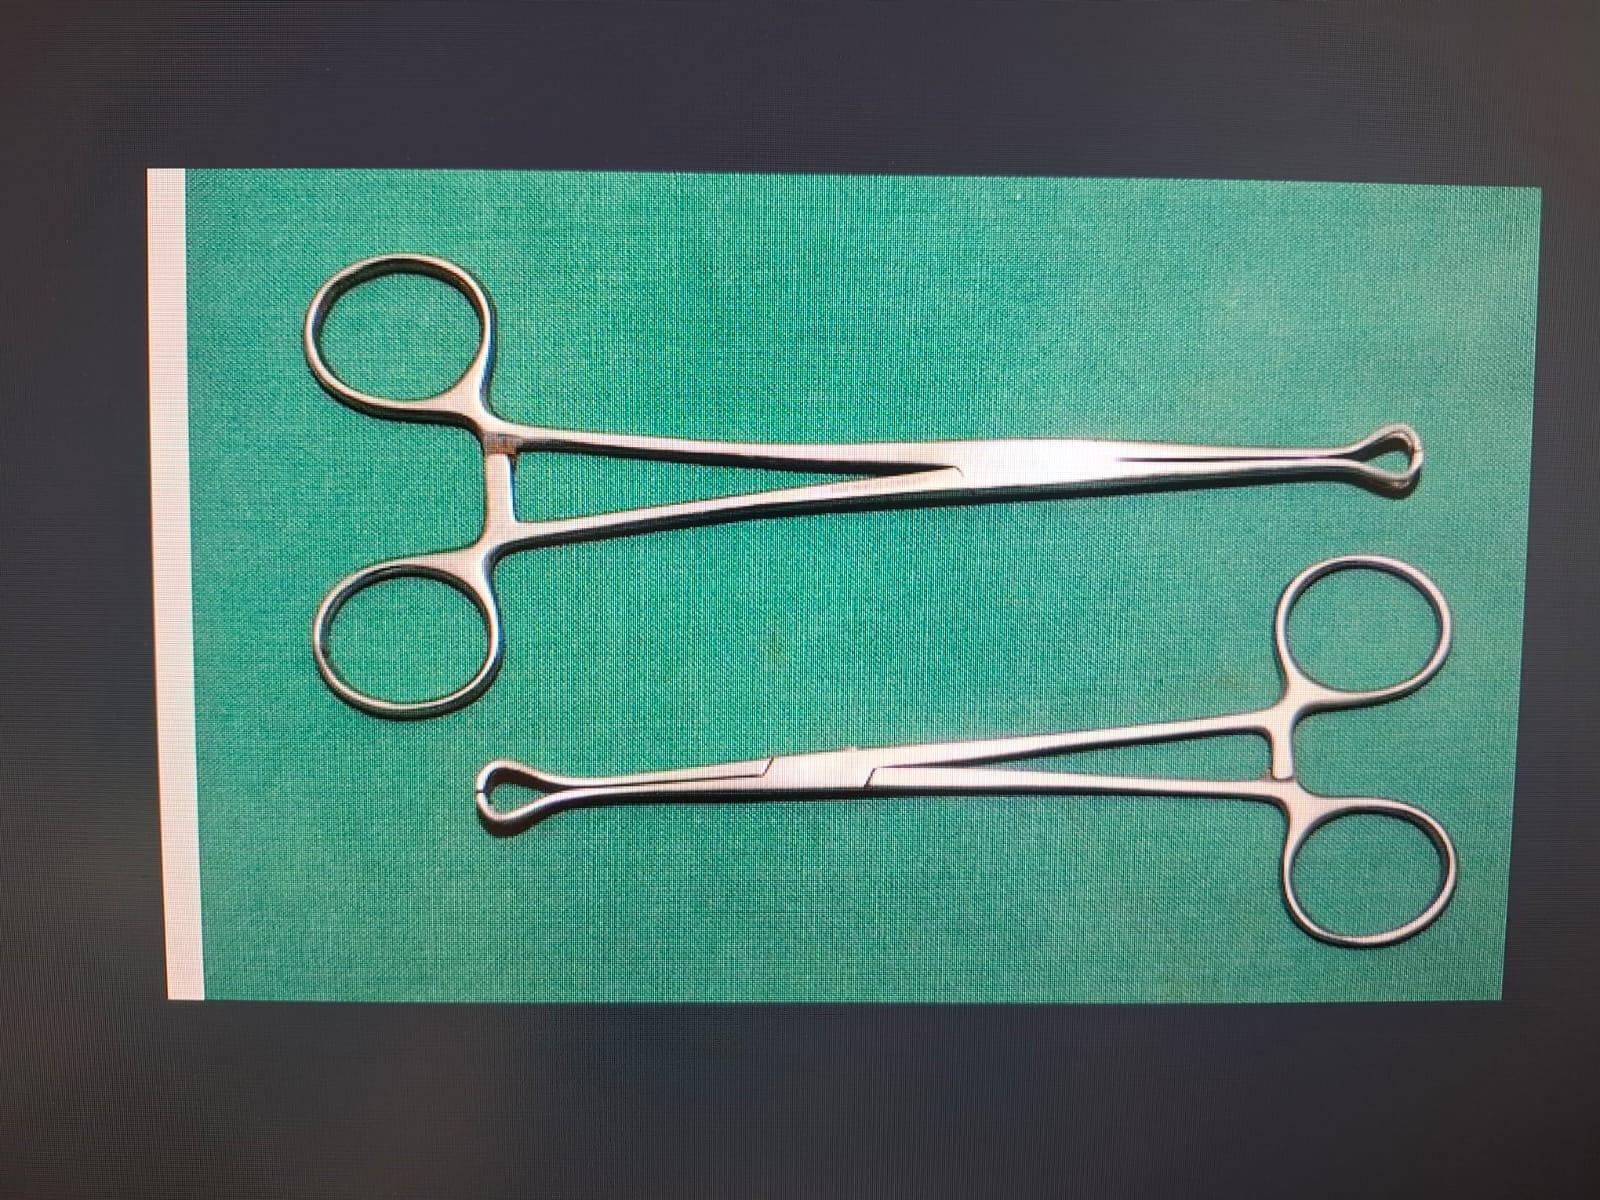Babcock Forceps: (289, 234, 1430, 726), (462, 546, 1478, 978)
